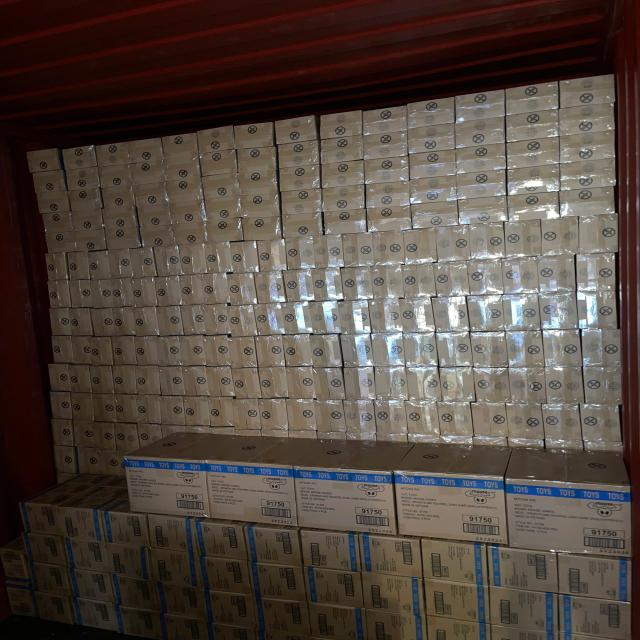Carton: (508, 490, 633, 560), (395, 477, 506, 544), (296, 476, 396, 532), (205, 471, 297, 528), (127, 462, 212, 518), (487, 547, 558, 593), (559, 554, 623, 600), (562, 598, 632, 640), (489, 587, 552, 631), (422, 540, 483, 584), (359, 537, 422, 579), (300, 527, 360, 570), (309, 568, 365, 610), (362, 574, 418, 614), (247, 524, 303, 564), (424, 582, 479, 622), (260, 596, 310, 638), (148, 514, 199, 554), (255, 561, 307, 600), (152, 550, 205, 587), (104, 541, 152, 581), (560, 74, 616, 108), (200, 519, 248, 558), (558, 103, 614, 136), (238, 148, 278, 194), (62, 536, 110, 574), (58, 505, 105, 543), (308, 604, 357, 640), (204, 557, 252, 593), (208, 591, 256, 627), (506, 112, 560, 144), (504, 82, 559, 113), (559, 132, 614, 163), (75, 598, 122, 634), (558, 158, 614, 188), (101, 512, 149, 547), (580, 365, 623, 404), (508, 192, 560, 223), (21, 532, 67, 567), (160, 584, 207, 618), (503, 402, 545, 440), (559, 189, 614, 218), (116, 578, 162, 612), (577, 255, 617, 294), (582, 330, 622, 369), (363, 612, 418, 640), (507, 165, 560, 194), (580, 217, 619, 256), (506, 138, 560, 166), (456, 119, 508, 148), (74, 570, 118, 604), (408, 97, 456, 128), (543, 330, 582, 368), (575, 292, 616, 328), (17, 502, 61, 535), (541, 294, 579, 332), (546, 367, 584, 405), (581, 406, 621, 442), (408, 124, 456, 154), (120, 608, 165, 640), (470, 402, 510, 438), (456, 92, 507, 120), (540, 256, 577, 294), (542, 220, 580, 257), (544, 405, 582, 442), (456, 171, 506, 199), (504, 295, 541, 332), (469, 296, 506, 333), (457, 198, 507, 225), (408, 152, 456, 180), (472, 332, 509, 368), (506, 222, 542, 259), (510, 332, 546, 369), (510, 368, 546, 405), (471, 224, 506, 262), (456, 143, 507, 169), (434, 298, 470, 334), (504, 259, 540, 295), (440, 368, 476, 404), (474, 368, 510, 404), (439, 403, 474, 440), (411, 203, 458, 230), (32, 563, 71, 595), (366, 158, 410, 186), (364, 132, 408, 160), (343, 401, 376, 438), (322, 137, 367, 164), (361, 110, 406, 137), (322, 113, 365, 141), (34, 594, 74, 624), (165, 614, 211, 640), (438, 334, 473, 368), (467, 262, 502, 296), (92, 309, 134, 337), (406, 368, 440, 402), (427, 619, 482, 640), (375, 402, 408, 437), (438, 227, 470, 263), (402, 298, 434, 334), (406, 230, 438, 266), (368, 206, 412, 232), (437, 263, 470, 297), (371, 300, 404, 334), (374, 333, 406, 368), (406, 333, 438, 368), (241, 170, 281, 198), (277, 119, 320, 145), (322, 162, 366, 187), (365, 185, 409, 210), (403, 265, 436, 298), (375, 369, 408, 402), (342, 335, 374, 369), (342, 234, 374, 268), (409, 182, 456, 205), (280, 191, 323, 216), (164, 178, 205, 204), (344, 369, 376, 402), (311, 335, 343, 368), (311, 269, 343, 302), (407, 403, 439, 436), (315, 400, 348, 432), (342, 268, 373, 302), (279, 166, 321, 191), (72, 336, 107, 366), (325, 210, 368, 234), (323, 187, 366, 211), (339, 302, 371, 334), (310, 302, 340, 336), (376, 232, 406, 266), (278, 142, 320, 166), (130, 158, 167, 185), (374, 267, 404, 300), (236, 124, 274, 150), (162, 155, 200, 181), (317, 368, 346, 402), (262, 399, 290, 434), (203, 173, 240, 199), (286, 400, 316, 432), (240, 194, 280, 218), (282, 214, 322, 238), (286, 237, 314, 271), (206, 218, 244, 243), (256, 272, 286, 303), (259, 240, 288, 272), (288, 368, 317, 400), (282, 303, 311, 335), (284, 270, 312, 303), (284, 335, 312, 368), (242, 217, 282, 240), (238, 147, 278, 170), (204, 197, 242, 221), (230, 241, 258, 273), (234, 399, 261, 432), (200, 151, 237, 175), (171, 201, 205, 227), (258, 336, 286, 367), (261, 368, 289, 399), (229, 274, 257, 305), (201, 273, 229, 304), (233, 369, 260, 401), (163, 134, 199, 158), (255, 304, 282, 336), (198, 128, 234, 152), (96, 142, 130, 167), (130, 139, 164, 164), (105, 227, 140, 251), (180, 335, 206, 367), (32, 170, 68, 193), (62, 146, 98, 169), (102, 207, 138, 230), (26, 148, 60, 172), (88, 279, 115, 309), (207, 398, 234, 428), (206, 336, 232, 367), (231, 337, 257, 368), (231, 305, 257, 336), (204, 243, 230, 274), (66, 168, 101, 191), (489, 628, 556, 640), (36, 192, 70, 215), (212, 623, 258, 640), (155, 248, 181, 278), (179, 245, 205, 275), (205, 304, 230, 335), (208, 367, 233, 398), (46, 228, 78, 252), (100, 167, 133, 190), (135, 336, 160, 366), (137, 396, 162, 426), (183, 367, 208, 397), (140, 228, 174, 250), (102, 188, 136, 210), (135, 186, 169, 208), (180, 304, 204, 335), (137, 207, 172, 228), (71, 190, 104, 212), (136, 366, 161, 395), (134, 306, 158, 336), (114, 364, 138, 394), (159, 306, 183, 336), (160, 367, 184, 397), (158, 276, 182, 306), (111, 277, 135, 307), (72, 229, 106, 250), (132, 278, 157, 306), (41, 212, 76, 232), (114, 337, 138, 366), (184, 398, 208, 427), (73, 210, 106, 231), (160, 337, 183, 367), (115, 425, 138, 455), (133, 250, 156, 280), (48, 280, 72, 308), (161, 396, 185, 424), (92, 365, 115, 394), (70, 279, 93, 308), (180, 274, 202, 304), (74, 421, 98, 448), (326, 236, 345, 270), (72, 394, 95, 422), (45, 252, 68, 280), (110, 252, 133, 280), (173, 227, 205, 247), (70, 364, 92, 393), (91, 253, 113, 282), (92, 338, 114, 367), (71, 308, 93, 336), (53, 419, 75, 447), (52, 308, 74, 336), (115, 396, 137, 424), (56, 447, 78, 475), (52, 336, 74, 364), (50, 365, 72, 392), (52, 392, 74, 419), (68, 254, 90, 281), (95, 394, 116, 422), (98, 422, 116, 452), (314, 236, 329, 269), (308, 632, 358, 640)
